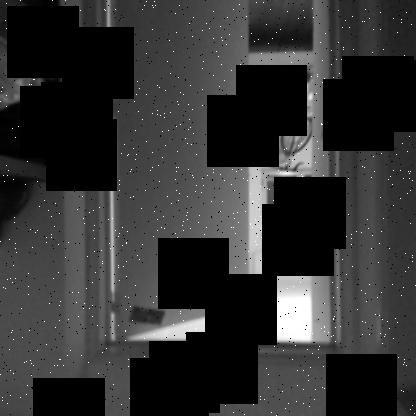Porte: (91, 0, 355, 368)
